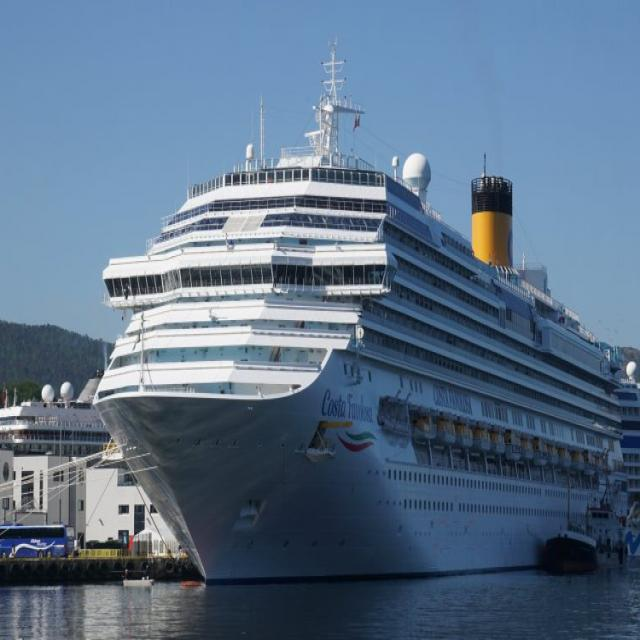cruises: (88, 46, 629, 596)
